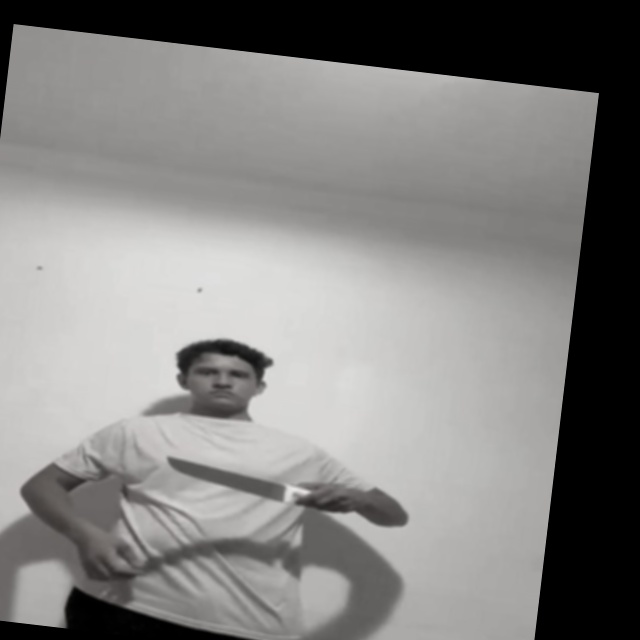Sharp-Object: (162, 453, 289, 497)
